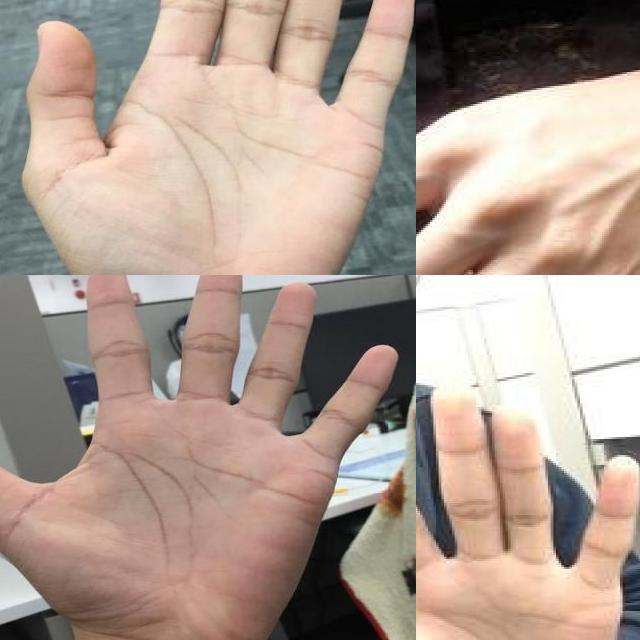no-gloves: (0, 275, 397, 640), (24, 0, 415, 275), (416, 383, 640, 640), (416, 46, 640, 275)
